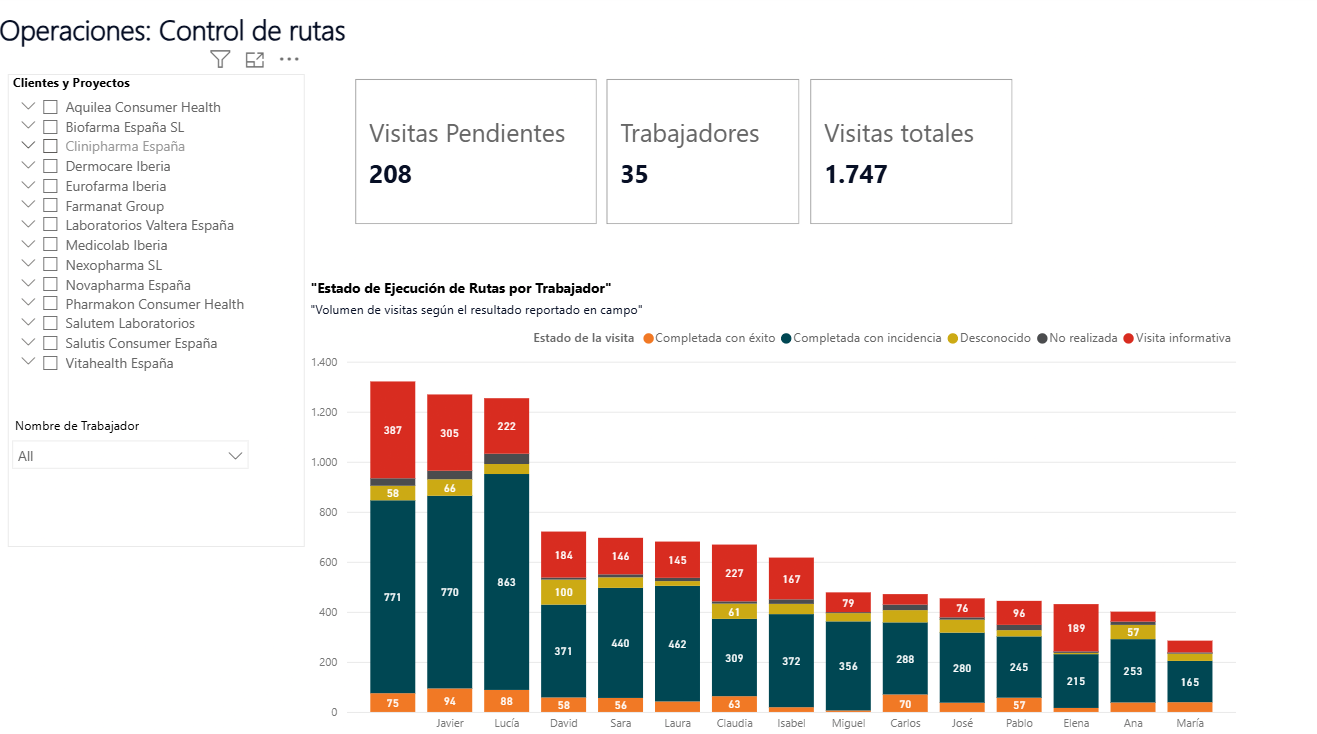

The dashboard page shown, as its layout file describes it:
{"tool":"powerbi","page":{"name":"2. Rutas","canvas":[1280,720],"ordinal":1},"visuals":[{"type":"textbox","box":[0,11.4,738.6,100],"z":0},{"type":"columnChart","title":"\"Estado de Ejecución de Rutas por Trabajador\"","fields":{"Category":["mart_visit_responses.employee_name"],"Y":["CountNonNull(mart_visit_responses.visit_id)"],"Series":["mart_visit_responses.Estado de la visita"]},"box":[300,273.3,903.3,446.7],"z":3000},{"type":"cardVisual","title":"Visitas pendientes","fields":{"Data":["mart_campaign_performance.Visitas Pendientes"]},"box":[343.3,76.7,243.3,150],"z":6000},{"type":"cardVisual","fields":{"Data":["Count(mart_visit_responses.employee_id)"]},"box":[586.7,76.7,196.7,150],"z":8000},{"type":"slicer","title":"Clientes y Proyectos","fields":{"Values":["mart_campaign_performance.client_name","mart_campaign_performance.project_name","mart_campaign_performance.campaign_name"]},"box":[13.3,76.7,286.7,456.7],"z":8001},{"type":"slicer","fields":{"Values":["mart_visit_responses.employee_name"]},"box":[6.7,403.3,248.3,81.7],"z":8002},{"type":"cardVisual","title":"Visitas Totales","fields":{"Data":["Sum(mart_campaign_performance.total_visits)"]},"box":[783.3,76.7,205,150],"z":8003}]}

Visuals, with their boxes in screenshot pixels (x1, y1, x2, y2), scaled from the page's 1280x720 canvas onto the 1317x734 screenshot:
textbox: crop(0, 12, 760, 114)
""Estado de Ejecución de Rutas por Trabajador"" columnChart: crop(309, 279, 1238, 733)
"Visitas pendientes" cardVisual: crop(353, 78, 604, 231)
cardVisual - Count(mart_visit_responses.employee_id): crop(604, 78, 806, 231)
"Clientes y Proyectos" slicer: crop(14, 78, 309, 544)
slicer - mart_visit_responses.employee_name: crop(7, 411, 262, 494)
"Visitas Totales" cardVisual: crop(806, 78, 1017, 231)
